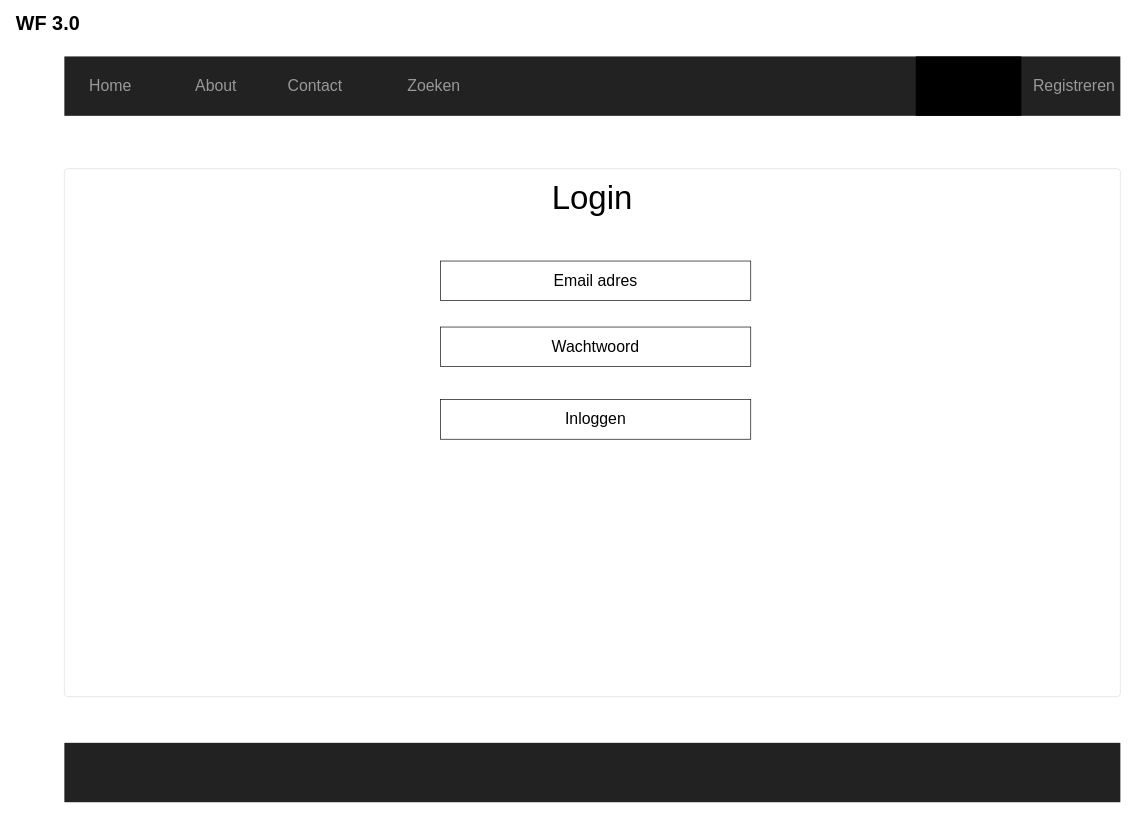
Image size: 1132x813. Some labels were removed from this diagram. The shapes that lost their labels are listed below. From the top down, each one's centre as x and y in pixels, then its label:
At point 968,86: "Log in".
At point 592,772: "Footer tekst".
